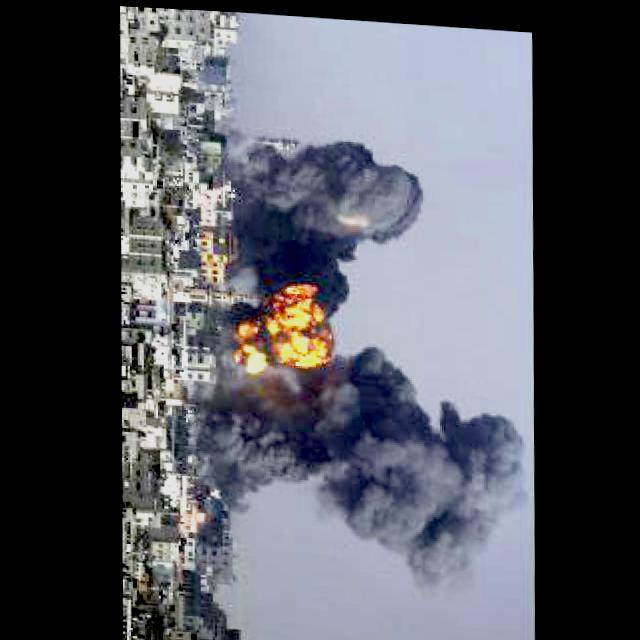Fire: (221, 270, 340, 374)
Smoke: (204, 349, 527, 573), (249, 136, 423, 284)
